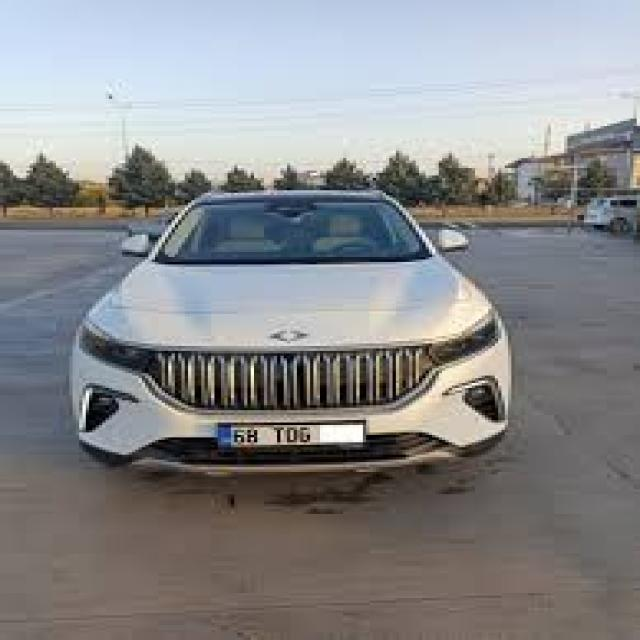togg: (73, 190, 508, 469)
